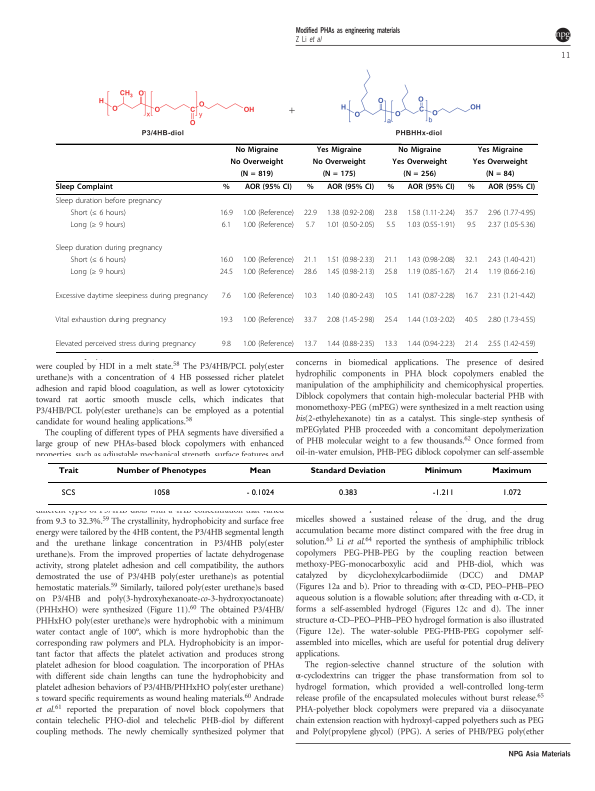borderless: (55, 142, 538, 352), (47, 461, 547, 504)
cell: (55, 292, 209, 301), (55, 340, 197, 349), (55, 196, 163, 206), (55, 244, 163, 254), (55, 316, 167, 325), (115, 466, 207, 475), (309, 466, 386, 475), (69, 208, 127, 218), (69, 256, 127, 266), (69, 220, 126, 230), (69, 268, 126, 278), (55, 183, 114, 192), (242, 208, 295, 218), (242, 220, 295, 230), (242, 256, 295, 266), (242, 268, 295, 278), (391, 158, 448, 167), (472, 158, 528, 167), (406, 208, 456, 218), (406, 220, 456, 230), (406, 256, 456, 266), (406, 268, 456, 278), (326, 208, 375, 218), (487, 208, 536, 218), (326, 220, 375, 230), (487, 220, 536, 230), (326, 256, 375, 266), (487, 256, 536, 266), (326, 268, 375, 278), (487, 268, 536, 278), (230, 158, 284, 167), (312, 158, 366, 167), (242, 292, 295, 301), (242, 316, 295, 325), (242, 340, 295, 349), (406, 292, 456, 301), (406, 316, 456, 325), (406, 340, 456, 349), (244, 183, 293, 192), (326, 183, 375, 192), (487, 183, 536, 192), (326, 292, 375, 301), (487, 292, 536, 301), (326, 316, 375, 325), (487, 316, 536, 325), (326, 340, 375, 349), (487, 340, 536, 349), (407, 183, 455, 192), (316, 146, 363, 155), (477, 146, 524, 155), (234, 146, 279, 155), (397, 146, 442, 155), (491, 466, 532, 475), (423, 466, 462, 475), (239, 170, 274, 179), (402, 170, 437, 179), (322, 170, 356, 179), (485, 170, 515, 179), (245, 488, 275, 496), (248, 466, 271, 475), (57, 466, 79, 475), (431, 488, 454, 496), (501, 488, 522, 496), (338, 488, 358, 496), (219, 208, 234, 218), (303, 208, 318, 218), (383, 208, 398, 218), (464, 208, 479, 218), (219, 256, 234, 266), (303, 256, 318, 266), (383, 256, 398, 266), (464, 256, 479, 266), (219, 268, 234, 278), (303, 268, 318, 278), (383, 268, 398, 278), (464, 268, 479, 278), (152, 488, 170, 496), (303, 292, 318, 301), (383, 292, 398, 301), (464, 292, 479, 301), (219, 316, 234, 325), (303, 316, 318, 325), (383, 316, 398, 325), (464, 316, 479, 325), (303, 340, 318, 349), (383, 340, 398, 349), (464, 340, 479, 349), (60, 488, 76, 496), (221, 220, 232, 230), (305, 220, 316, 230), (385, 220, 396, 230), (466, 220, 477, 230), (221, 292, 232, 301), (221, 340, 232, 349), (222, 183, 231, 192), (306, 183, 315, 192), (386, 183, 395, 192), (467, 183, 476, 192)
